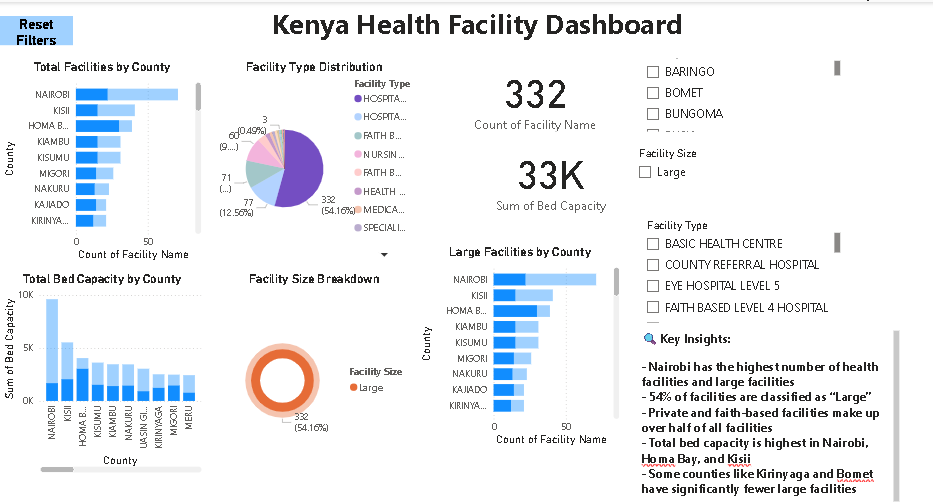

This screenshot's page, from the dashboard's own definition file:
{"tool":"powerbi","page":{"name":"Page 1","canvas":[1280,720],"ordinal":0},"visuals":[{"type":"barChart","title":"Total Facilities by County","fields":{"Category":["Workbook.County"],"Y":["CountNonNull(Workbook.Facility Name)"]},"box":[0,79,280.5,280.5],"z":0},{"type":"columnChart","title":"Total Bed Capacity by County","fields":{"Category":["Workbook.County"],"Y":["Sum(Workbook.Bed Capacity)"]},"box":[0,370,281,281],"z":1000},{"type":"pieChart","title":"Facility Type Distribution","fields":{"Category":["Workbook.Facility Type"],"Y":["CountNonNull(Workbook.Facility Name)"]},"box":[291,79,281,281],"z":2000},{"type":"donutChart","title":" Facility Size Breakdown","fields":{"Category":["Workbook.Facility Size"],"Y":["CountNonNull(Workbook.Facility Name)"]},"box":[291,370,281,281],"z":3000},{"type":"barChart","title":"Large Facilities by County","fields":{"Category":["Workbook.County"],"Y":["CountNonNull(Workbook.Facility Name)"]},"box":[571.1,332.6,282.2,280.5],"z":4000},{"type":"card","fields":{"Values":["CountNonNull(Workbook.Facility Name)"]},"box":[591.3,79,282.2,104.1],"z":4001},{"type":"card","fields":{"Values":["Sum(Workbook.Bed Capacity)"]},"box":[613.1,183.1,282.2,117.6],"z":4002},{"type":"slicer","fields":{"Values":["Workbook.County"]},"box":[874,58.9,282.2,124.7],"z":4003},{"type":"slicer","fields":{"Values":["Workbook.Facility Size"]},"box":[863,195.9,282.2,80.8],"z":4004},{"type":"slicer","fields":{"Values":["Workbook.Facility Type"]},"box":[874,294.5,282.2,150.7],"z":4005},{"type":"actionButton","title":"Reset Filters","box":[0,20.5,99.5,39.5],"z":4006},{"type":"textbox","box":[250.2,0,806.3,79],"z":4007},{"type":"textbox","box":[874,446.6,363,249.3],"z":4008}]}

Visuals, with their boxes on the page's 1280x720 design canvas (x1, y1, x2, y2). These are canvas units, not pixel positions in the 933x502 screenshot, which may show the page scaled, cropped or inside an application window:
"Total Facilities by County" barChart: BBox(0, 79, 280, 360)
"Total Bed Capacity by County" columnChart: BBox(0, 370, 281, 651)
"Facility Type Distribution" pieChart: BBox(291, 79, 572, 360)
" Facility Size Breakdown" donutChart: BBox(291, 370, 572, 651)
"Large Facilities by County" barChart: BBox(571, 333, 853, 613)
card - CountNonNull(Workbook.Facility Name): BBox(591, 79, 874, 183)
card - Sum(Workbook.Bed Capacity): BBox(613, 183, 895, 301)
slicer - Workbook.County: BBox(874, 59, 1156, 184)
slicer - Workbook.Facility Size: BBox(863, 196, 1145, 277)
slicer - Workbook.Facility Type: BBox(874, 294, 1156, 445)
"Reset Filters" actionButton: BBox(0, 20, 100, 60)
textbox: BBox(250, 0, 1056, 79)
textbox: BBox(874, 447, 1237, 696)
